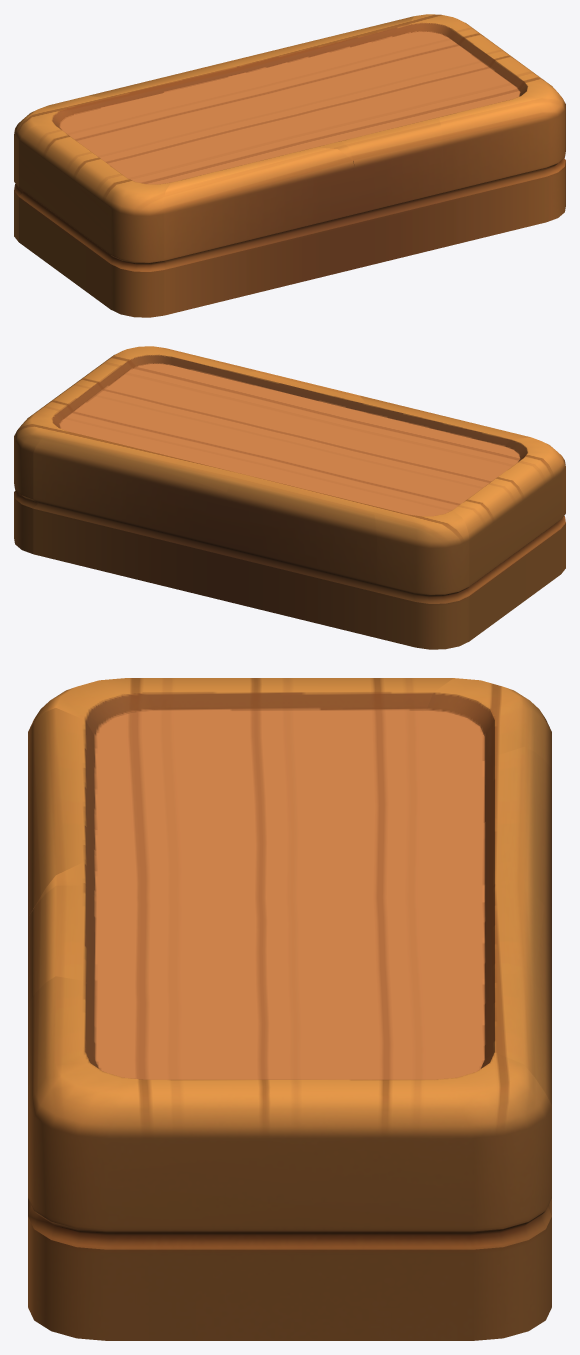
Rendered from model_TraySpecBreak.fbx.
3 views of the same model, one above another, from view 1: azimuth 30°, elevation 25°; view 2: azimuth 150°, elevation 25°; view 3: azimuth 270°, elevation 25° (orthographic). The views are drawn at different scales.
Visible parts, largest first — view 1: model_TraySpecBreak6, model_TraySpecBreak3, model_TraySpecBreak5, model_TraySpecBreak7, model_TraySpecBreak4, model_TraySpecBreak1, model_TraySpecBreak8, model_TraySpecBreak2; view 2: model_TraySpecBreak4, model_TraySpecBreak1, model_TraySpecBreak5, model_TraySpecBreak8, model_TraySpecBreak2, model_TraySpecBreak3, model_TraySpecBreak7, model_TraySpecBreak6; view 3: model_TraySpecBreak3, model_TraySpecBreak4, model_TraySpecBreak1, model_TraySpecBreak5, model_TraySpecBreak7, model_TraySpecBreak8, model_TraySpecBreak6, model_TraySpecBreak2.
Part boxes in pixels (bbox=[...]): model_TraySpecBreak6: bbox=[163, 142, 354, 315]; model_TraySpecBreak3: bbox=[406, 14, 565, 247]; model_TraySpecBreak5: bbox=[19, 125, 180, 317]; model_TraySpecBreak7: bbox=[310, 76, 444, 268]; model_TraySpecBreak4: bbox=[89, 61, 333, 143]; model_TraySpecBreak1: bbox=[14, 95, 353, 241]; model_TraySpecBreak8: bbox=[322, 16, 436, 118]; model_TraySpecBreak2: bbox=[231, 38, 351, 142]; model_TraySpecBreak4: bbox=[225, 406, 377, 637]; model_TraySpecBreak1: bbox=[339, 393, 469, 649]; model_TraySpecBreak5: bbox=[410, 437, 565, 641]; model_TraySpecBreak8: bbox=[33, 382, 238, 578]; model_TraySpecBreak2: bbox=[132, 406, 337, 600]; model_TraySpecBreak3: bbox=[14, 346, 255, 553]; model_TraySpecBreak7: bbox=[190, 370, 348, 442]; model_TraySpecBreak6: bbox=[360, 395, 530, 465]; model_TraySpecBreak3: bbox=[28, 976, 551, 1340]; model_TraySpecBreak4: bbox=[96, 747, 551, 917]; model_TraySpecBreak1: bbox=[35, 678, 551, 905]; model_TraySpecBreak5: bbox=[29, 678, 453, 786]; model_TraySpecBreak7: bbox=[28, 885, 366, 1003]; model_TraySpecBreak8: bbox=[97, 973, 551, 1215]; model_TraySpecBreak6: bbox=[28, 708, 266, 917]; model_TraySpecBreak2: bbox=[97, 885, 551, 1007].
Size of the model in its own units: 199 by 49.64 by 100.
